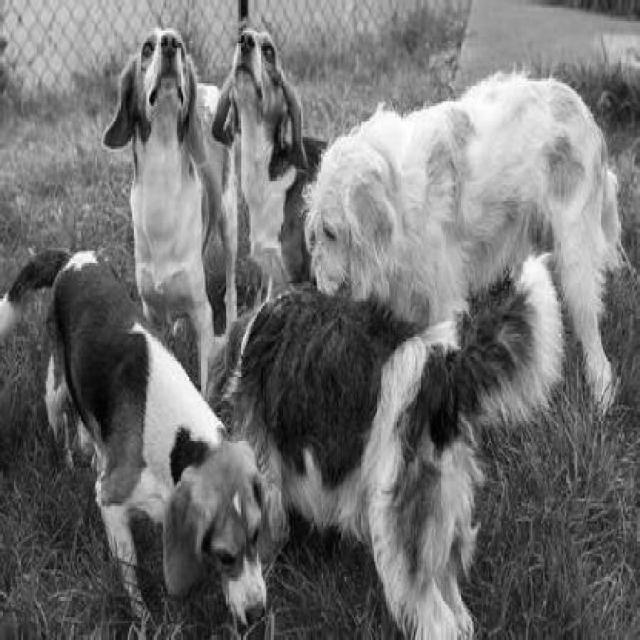Dog: (208, 290, 549, 638), (3, 236, 292, 635), (307, 106, 639, 417), (103, 20, 255, 380), (212, 15, 332, 297)
